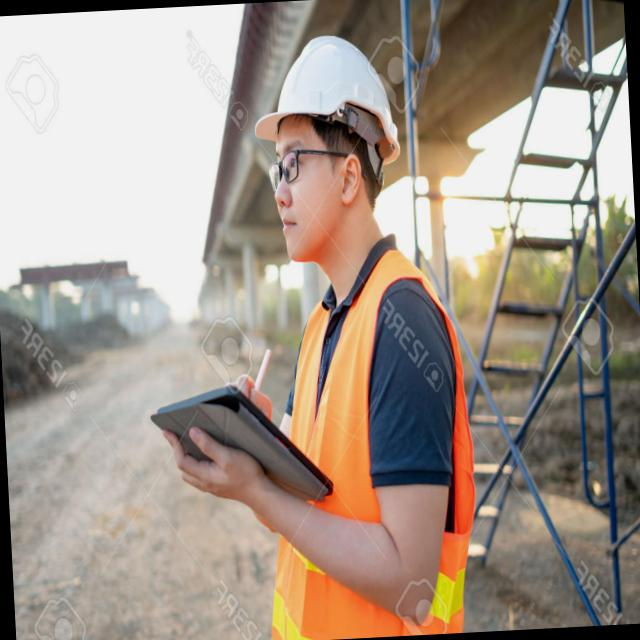helmet: (246, 25, 404, 213)
no-goggles: (265, 139, 354, 191)
vest: (245, 241, 485, 640)
